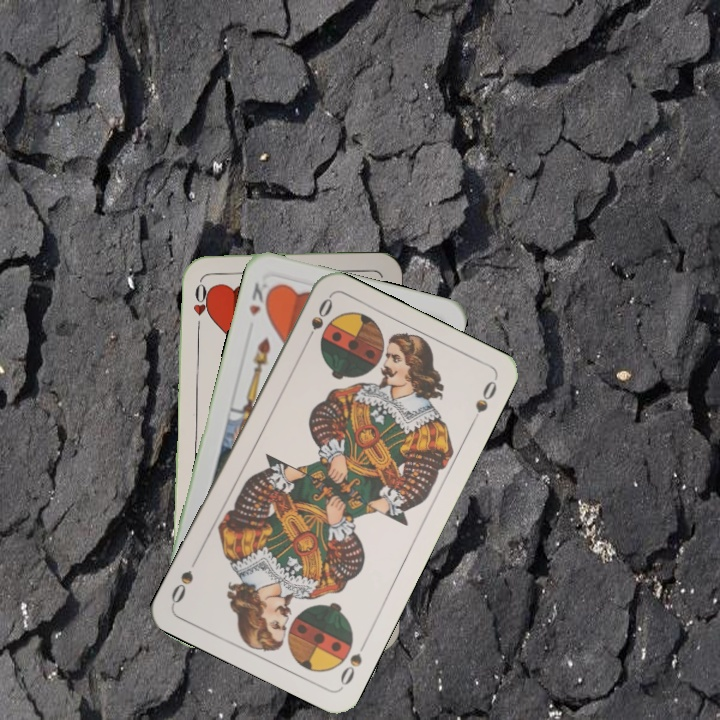HK: (244, 278, 275, 318)
HO: (189, 276, 208, 335)
SO: (300, 293, 336, 349), (336, 636, 370, 690)
